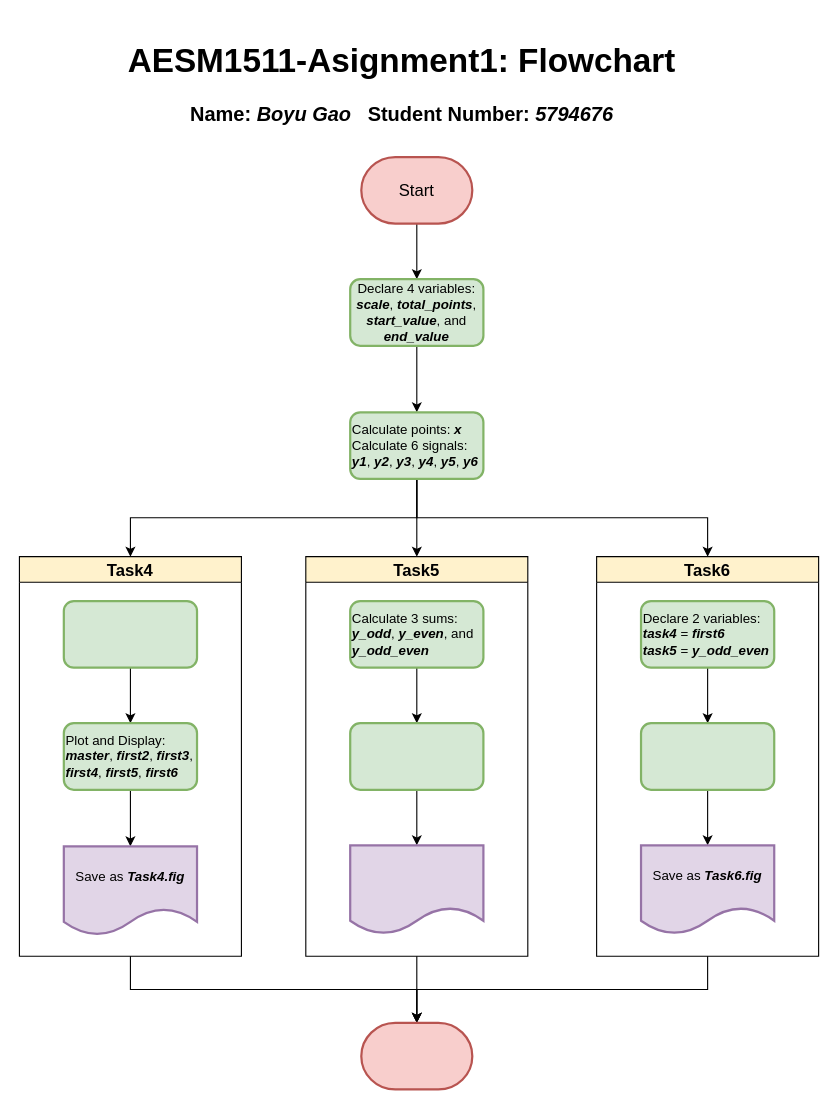
Image size: 838x1109. Some labels were removed from this diagram. Each missing label, with the centre of its shape:
"Calculate 6 sums: master , first2 , first3 , first4 , first5 , first6" belongs at [130,633].
"End" belongs at [416,1055].
"Plot and Display: task4 and task5" belongs at [707,756].
"Plot and Display: y_odd , y_even , and y_odd_even" belongs at [416,756].
"Save as Task5.fig" belongs at [416,889].
